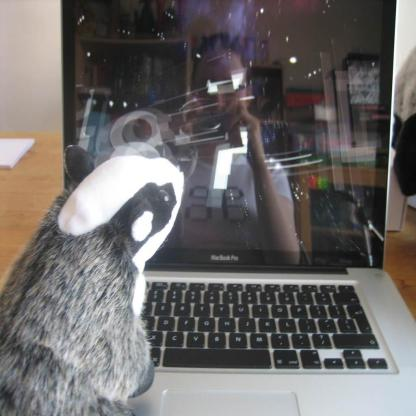board: (61, 0, 415, 415)
